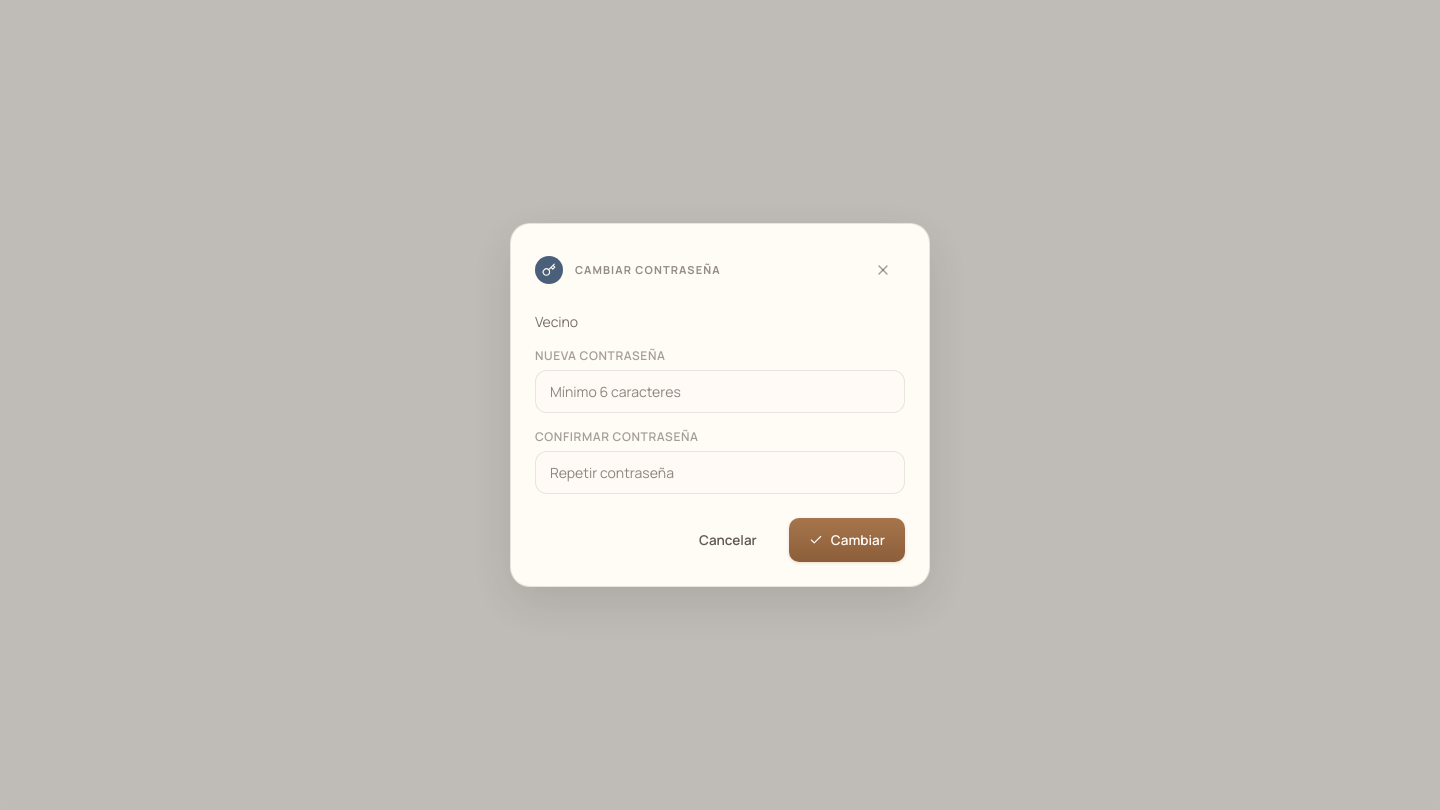
Test: ChangePasswordModal › shows error when password is too short
In the password field with placeholder "Mínimo 6 caracteres": (720, 392) x1=535 y1=370 x2=905 y2=413, type "abc"
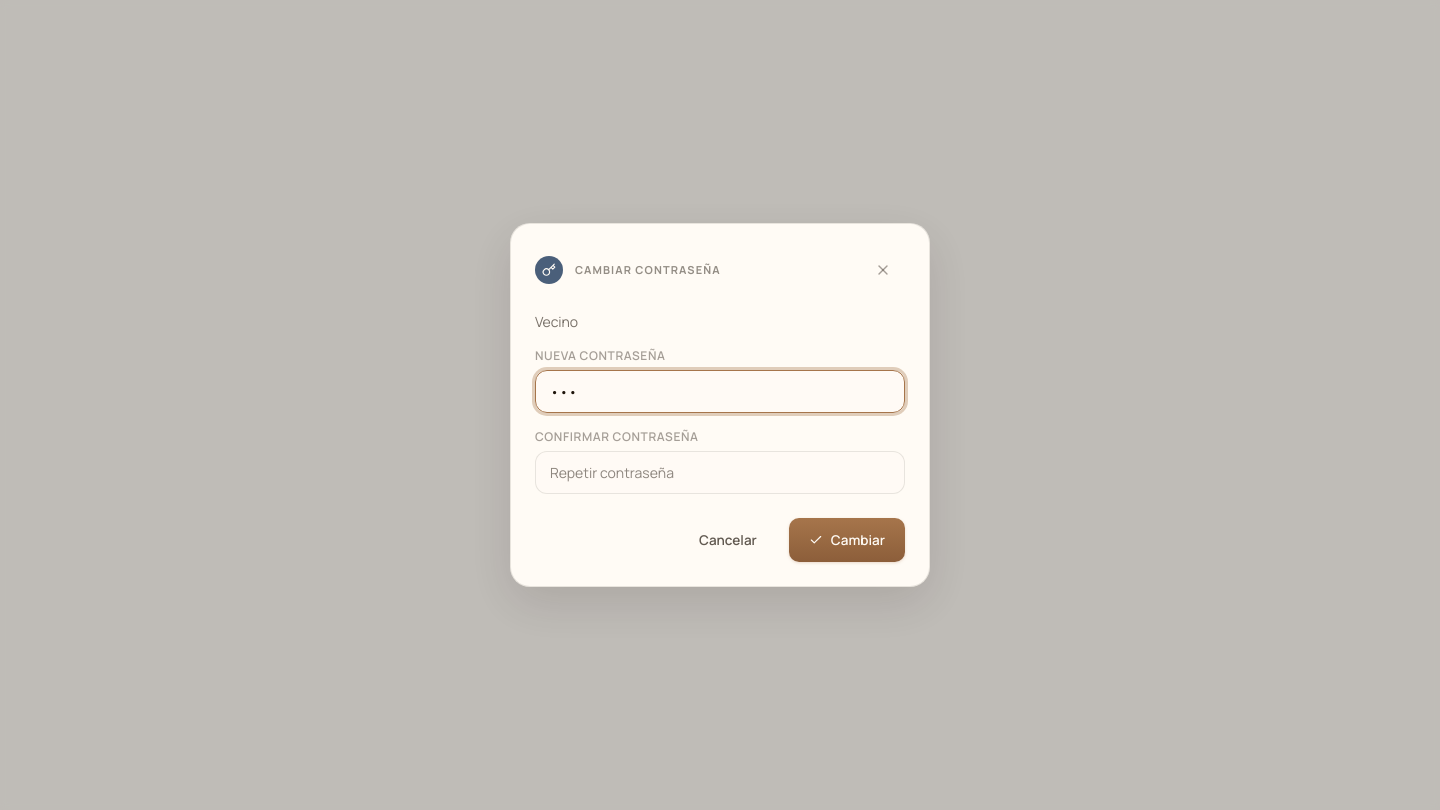
In the password field with placeholder "Repetir contraseña": (720, 472) x1=535 y1=451 x2=905 y2=494, type "abc"
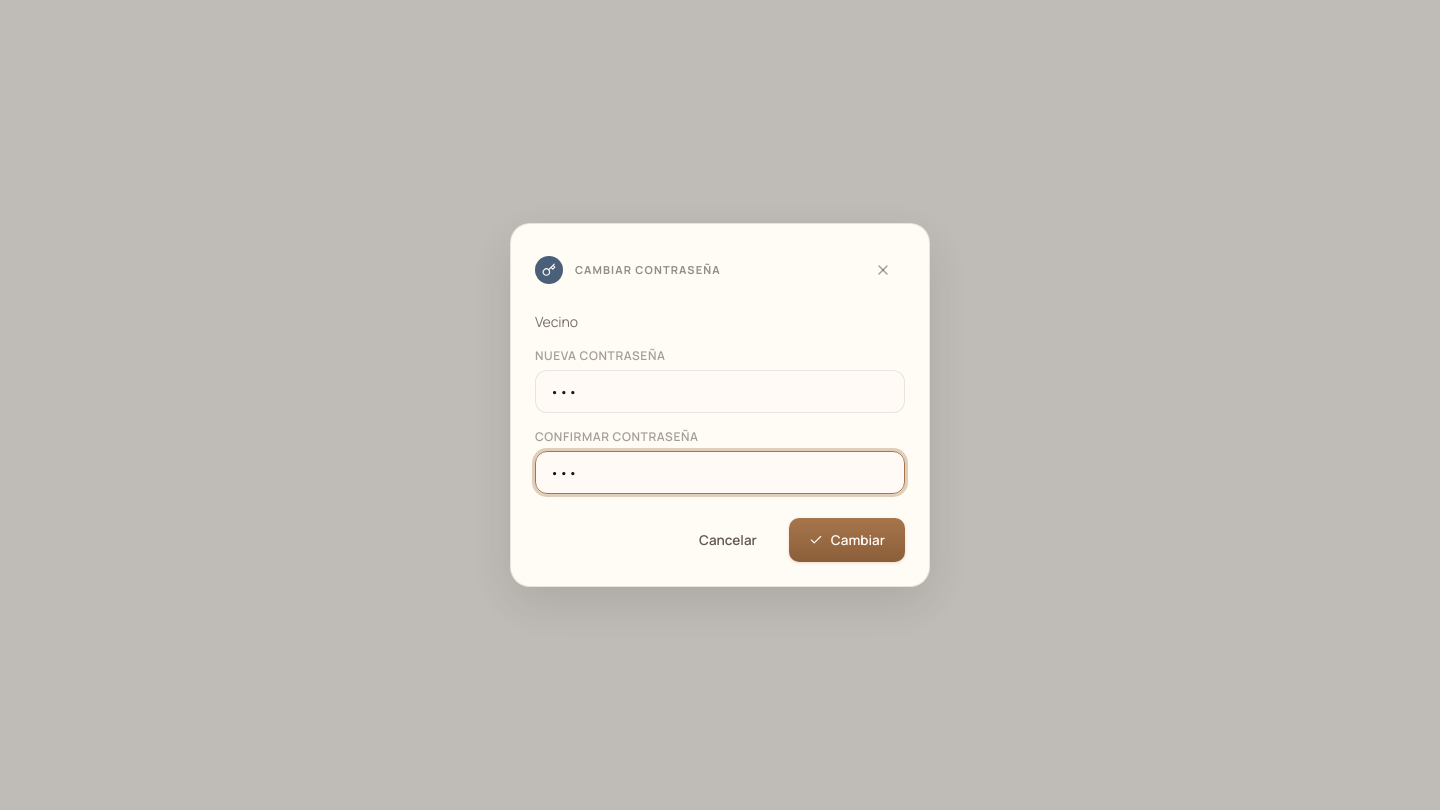
Click the button "Cambiar": (847, 540) x1=789 y1=518 x2=905 y2=562
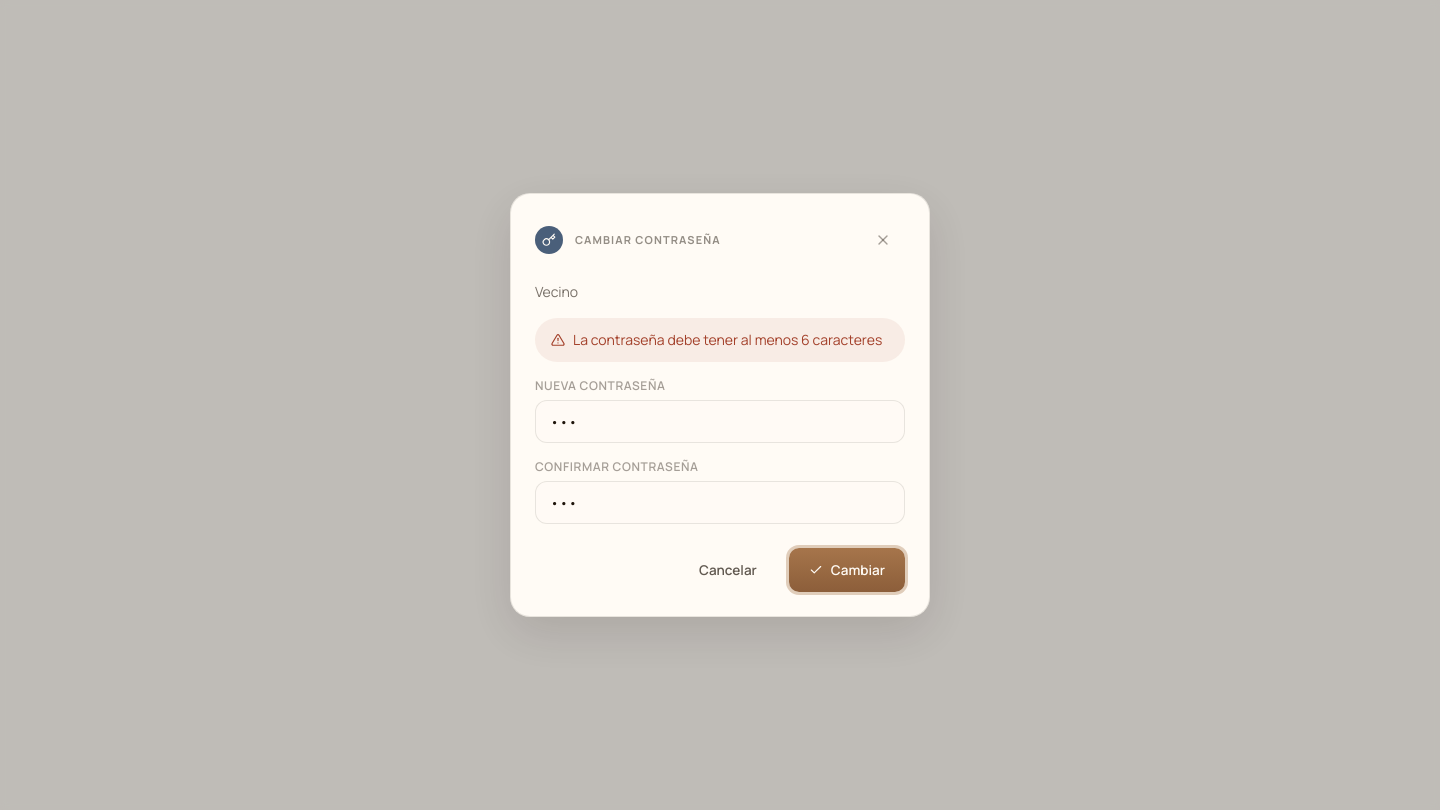
Expected: the text "La contraseña debe tener al menos 6 caracteres" is shown, x1=535 y1=318 x2=905 y2=362
